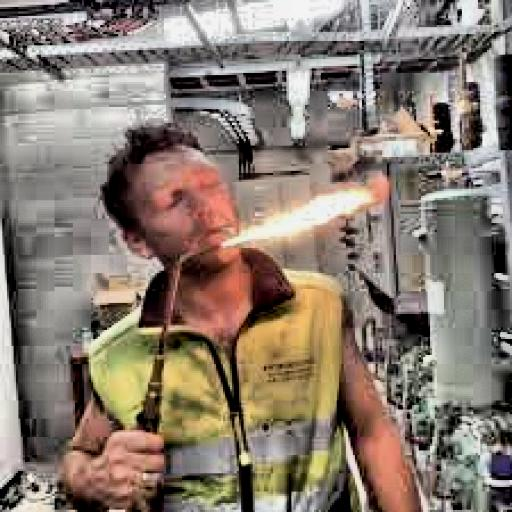fire: (212, 182, 382, 250)
